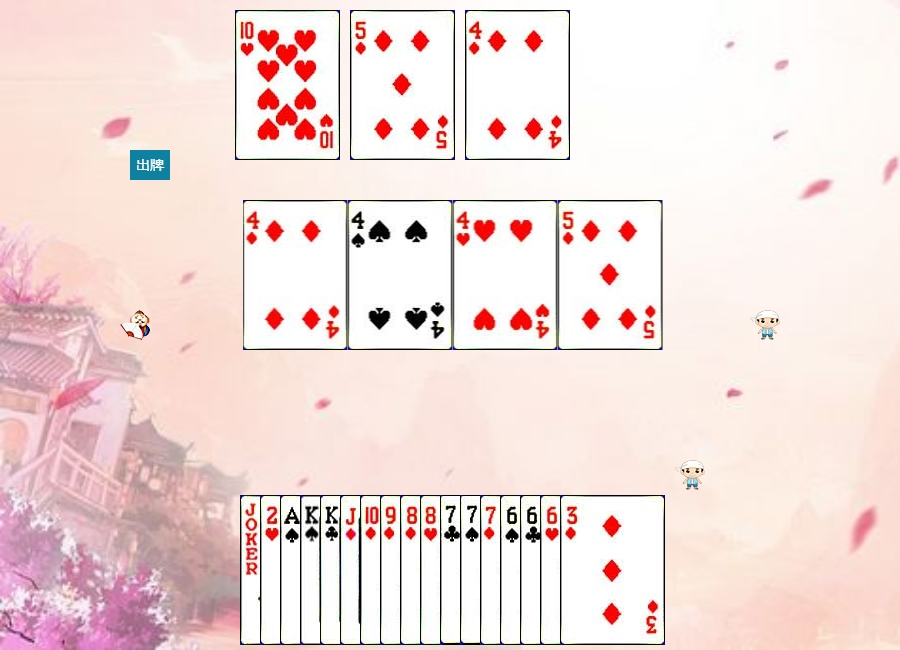10~1: (360, 495, 465, 645)
10~3: (235, 10, 340, 160)
11~1: (340, 495, 445, 645)
13~2: (320, 495, 425, 645)
13~4: (300, 495, 405, 645)
14~4: (280, 495, 385, 645)
15~3: (260, 495, 365, 645)
18~4: (240, 495, 345, 645)
3~1: (560, 495, 665, 645)
4~1: (465, 10, 570, 160), (243, 200, 348, 350)
4~3: (453, 200, 558, 350)
4~4: (348, 200, 453, 350)
5~1: (350, 10, 455, 160), (558, 200, 663, 350)
6~2: (520, 495, 625, 645)
6~3: (540, 495, 645, 645)
6~4: (500, 495, 605, 645)
7~1: (480, 495, 585, 645)
7~2: (440, 495, 545, 645)
7~4: (460, 495, 565, 645)
8~1: (400, 495, 505, 645)
8~3: (420, 495, 525, 645)
9~1: (380, 495, 485, 645)
